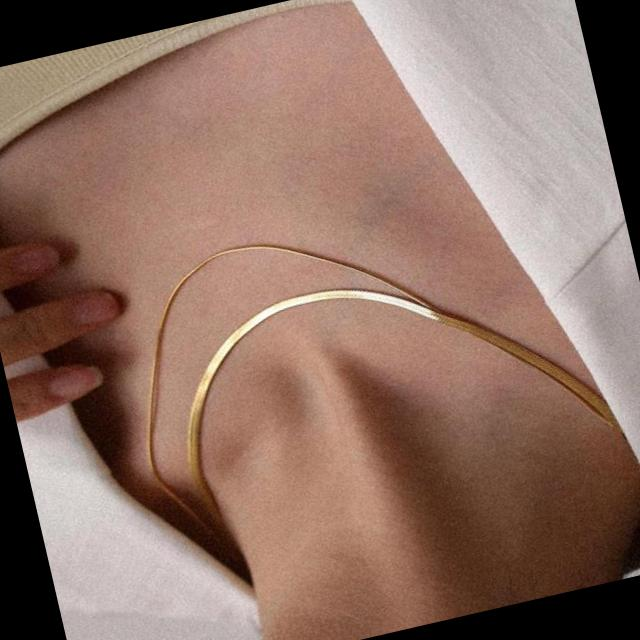Nail: (40, 364, 102, 398), (62, 289, 115, 326), (9, 242, 56, 273)
